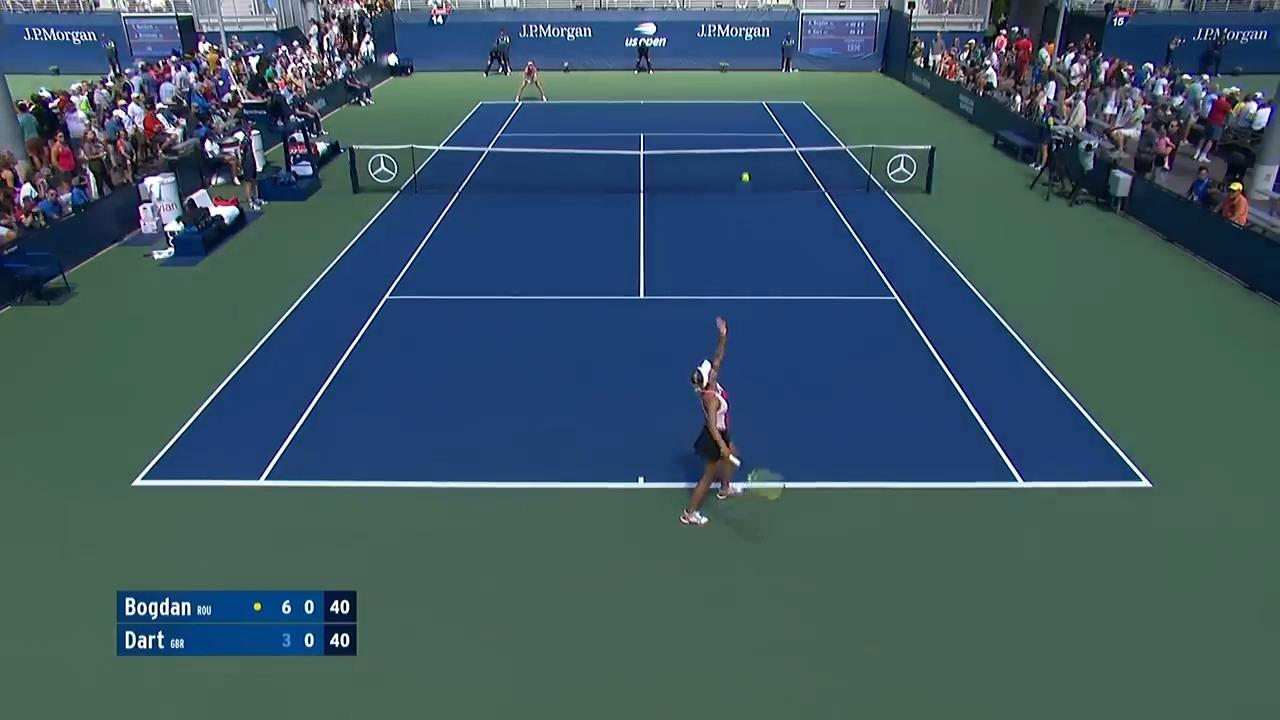tennis ball: (742, 171, 751, 180)
